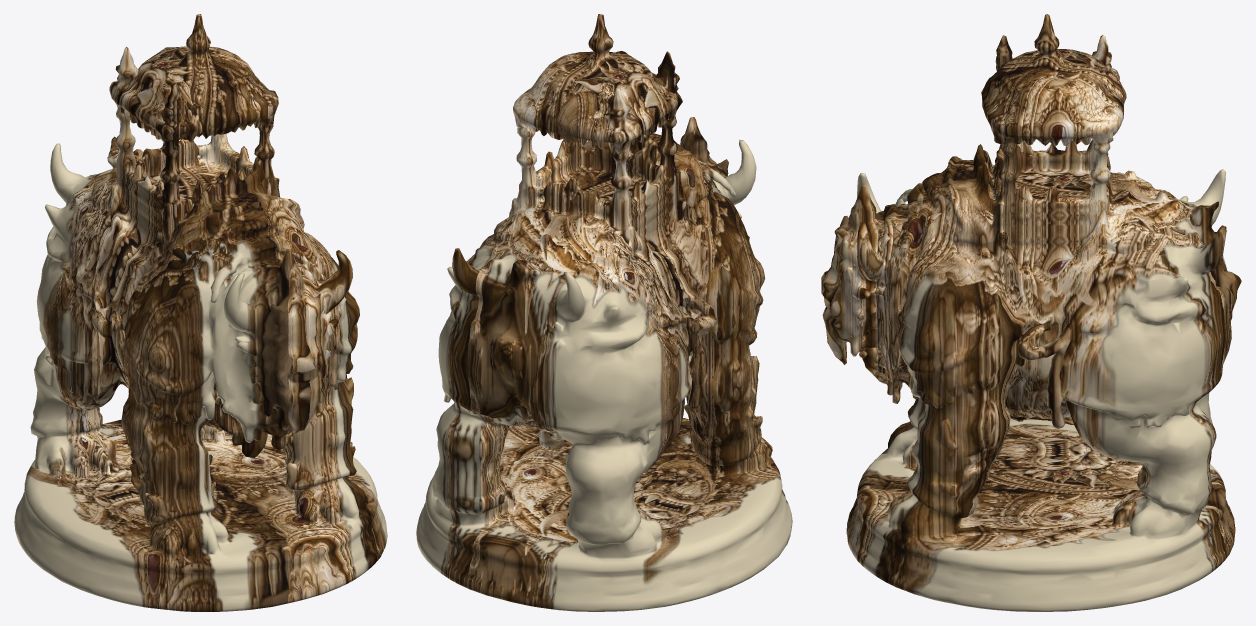
File: gaja.glb
3 renders of one model, left to right at view 1: azimuth 30°, elevation 25°; view 2: azimuth 150°, elevation 25°; view 3: azimuth 270°, elevation 25°, orthographic.
Parts seen in each view (by area): view 1: geometry_0; view 2: geometry_0; view 3: geometry_0.
Part boxes in pixels (x1=…): geometry_0: x1=14, y1=14, x2=387, y2=611; geometry_0: x1=416, y1=14, x2=792, y2=611; geometry_0: x1=821, y1=14, x2=1241, y2=611.
Bounding box in the file's own units: 1.26 × 1.95 × 1.43.
Materials: 1 (1 with a texture image).
